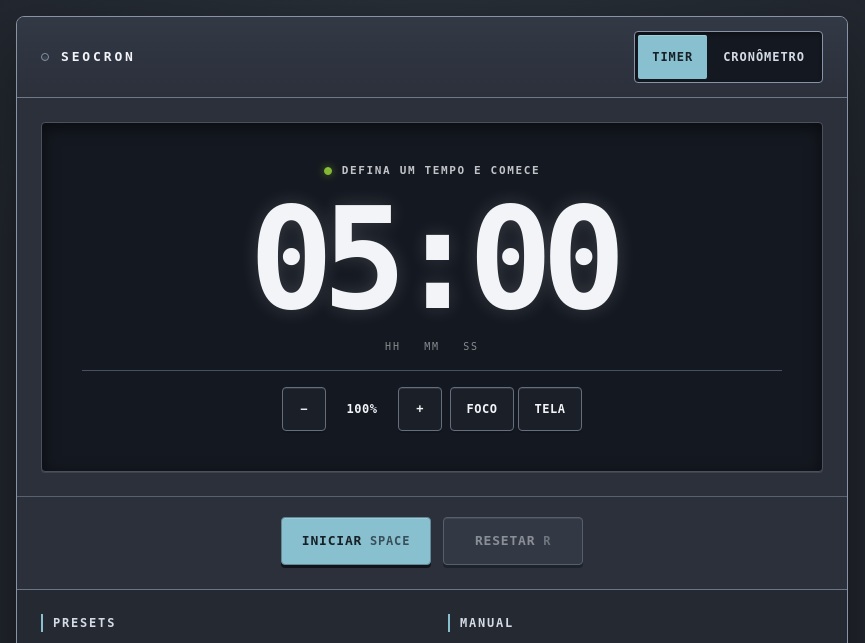
App › pauses the running mode before switching
This screenshot has width=865, height=643.
Click the button with aria-label "Iniciar Timer". click: (356, 541)
box: [281,517,431,565]
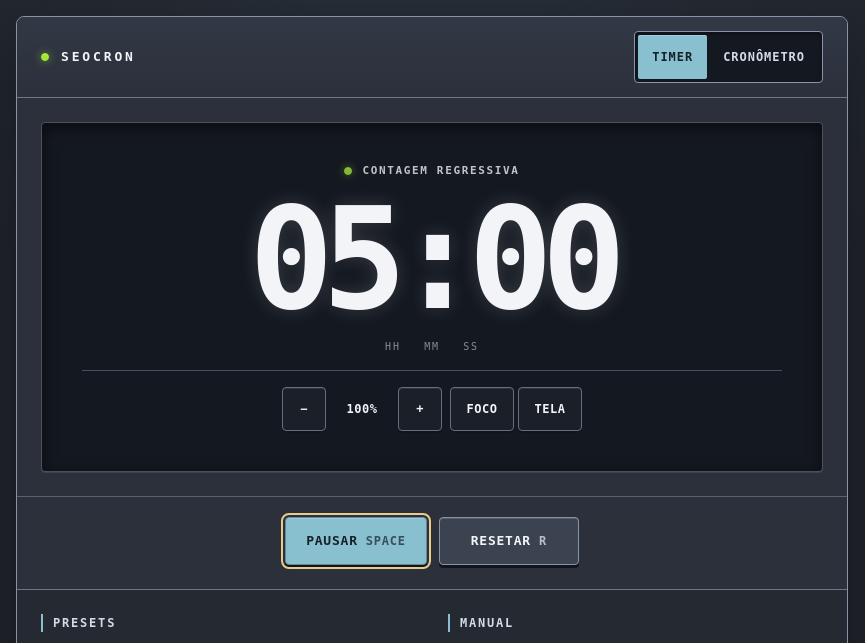
Click the button "Cronômetro". click: (764, 57)
box: [709,35,819,79]
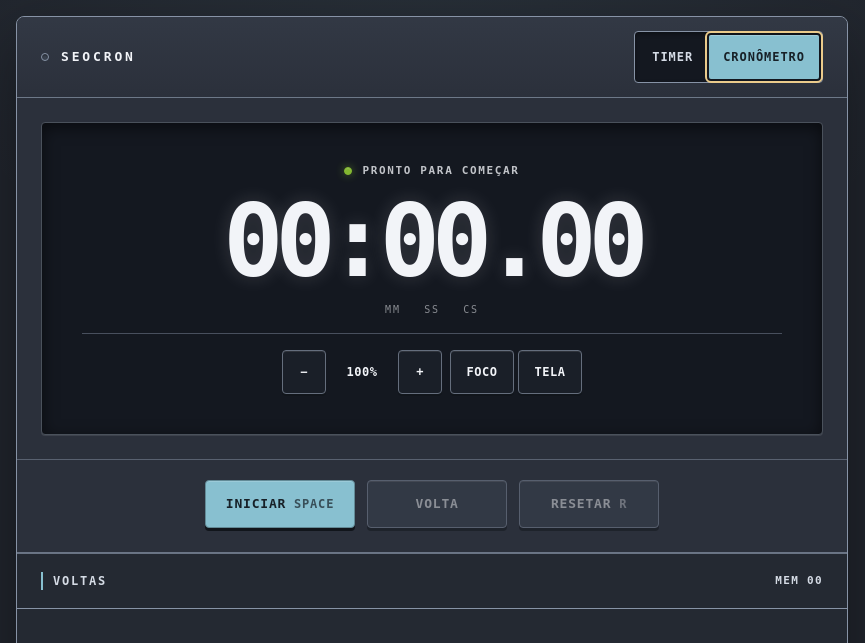
Click the button "Timer". click: (673, 57)
box: [638,35,707,79]
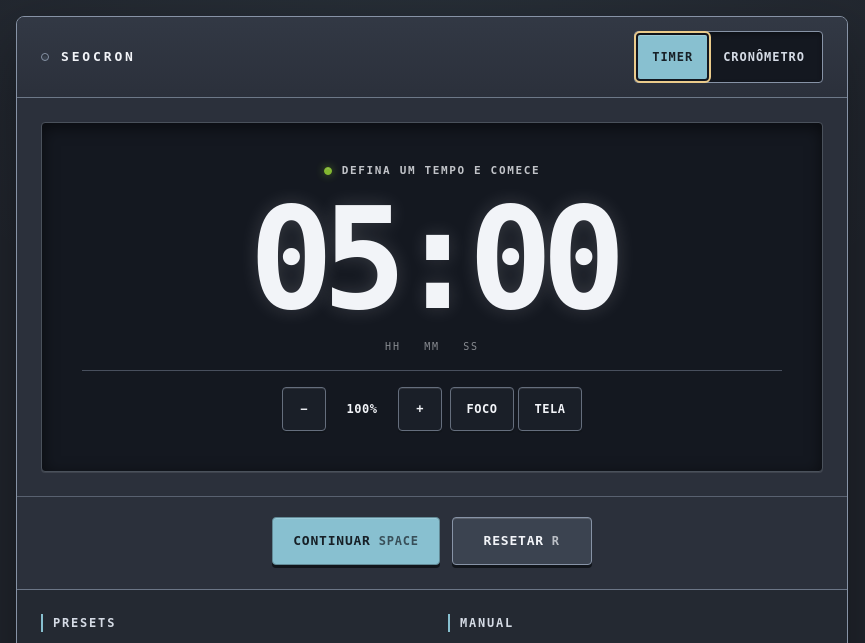
Check: the button with aria-label "Continuar Timer" is shown, box [272,517,440,565]
